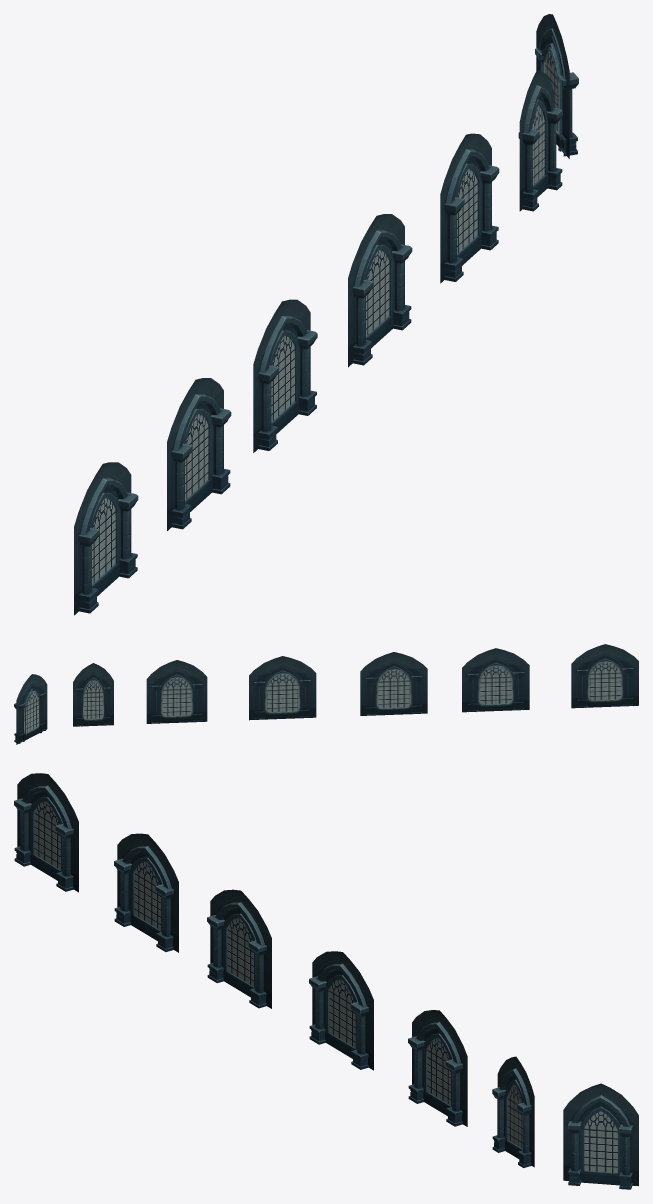
The model's file is Area_08_2.fbx.
3 renders of one model, top to bottom at view 1: azimuth 30°, elevation 25°; view 2: azimuth 150°, elevation 25°; view 3: azimuth 270°, elevation 25°, orthographic. The views are drawn at different scales.
Parts seen in each view (by area): view 1: Area_08_2; view 2: Area_08_2; view 3: Area_08_2.
Part boxes in pixels (left/top/right/bottom): Area_08_2: left=74, top=14, right=578, bottom=615; Area_08_2: left=14, top=644, right=638, bottom=744; Area_08_2: left=14, top=773, right=638, bottom=1189.
Bounding box in the file's own units: 4196 × 585 × 3313.
